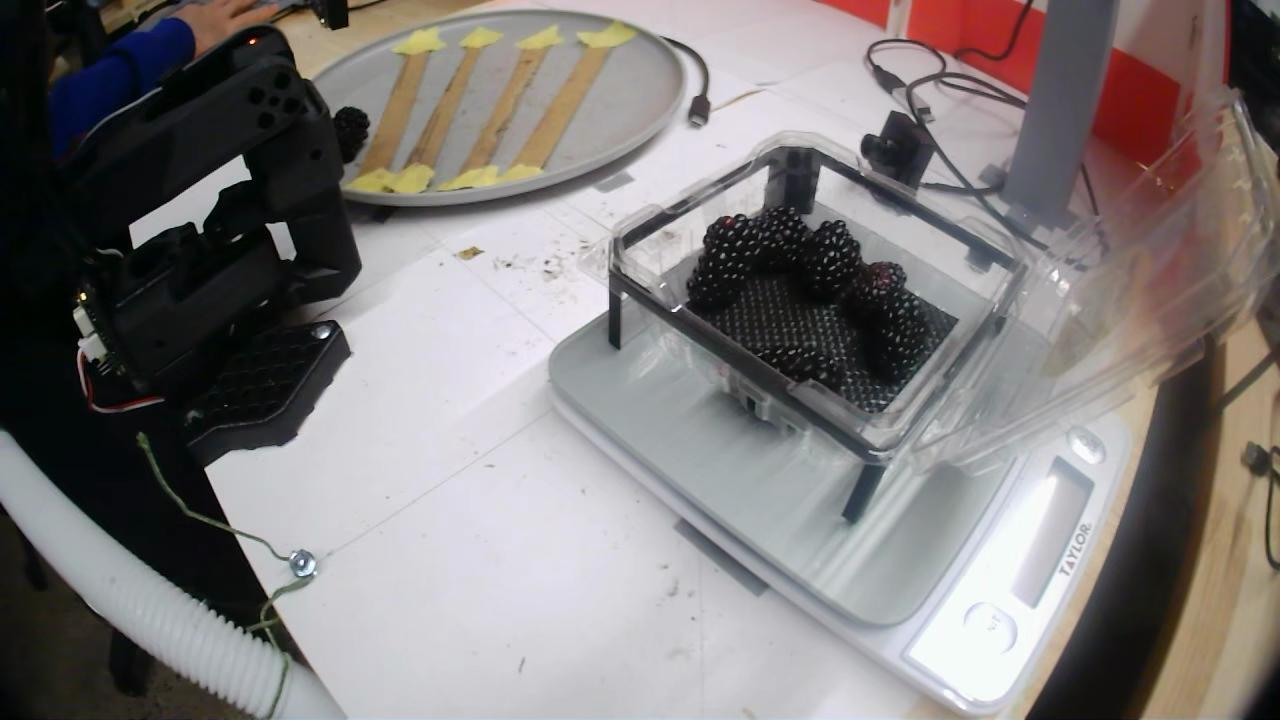berry: (687, 214, 759, 316), (866, 283, 931, 384), (793, 220, 863, 302), (741, 207, 808, 275), (845, 263, 906, 319), (758, 346, 839, 382), (333, 107, 369, 163)
